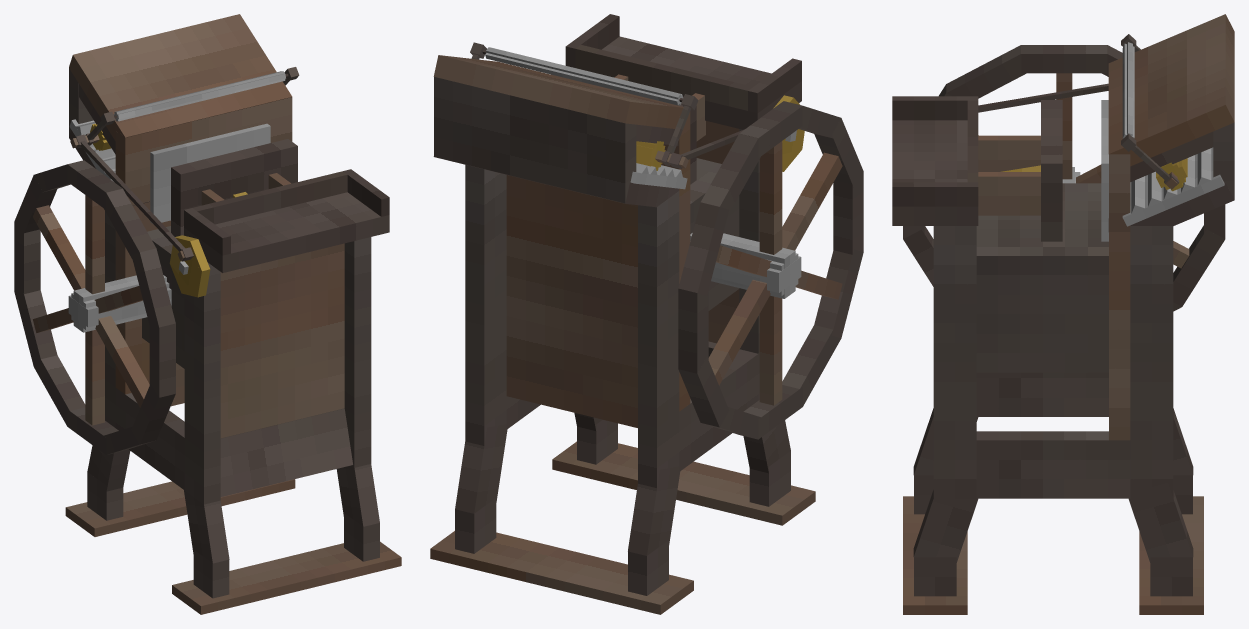
Rendered from blueprint_printer.obj.
3 views of the same model, side by side, from view 1: azimuth 30°, elevation 25°; view 2: azimuth 150°, elevation 25°; view 3: azimuth 270°, elevation 25° (orthographic). The views are drawn at different scales.
Parts seen in each view (by area): view 1: printer; view 2: printer; view 3: printer.
Boxes of the visible parts, x1,y1,x2,y2 form: printer: (14,14,401,614); printer: (430,14,863,614); printer: (892,14,1234,614).
Size of the model in its own units: 0.9375 by 1.61 by 0.9956.
